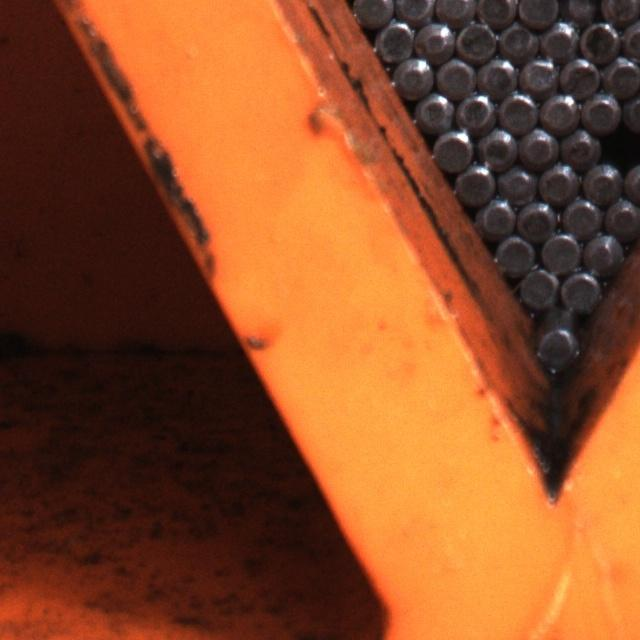tool: (532, 322, 579, 369), (514, 265, 556, 308), (453, 160, 495, 202), (560, 269, 602, 311), (455, 87, 496, 129), (538, 229, 580, 270), (493, 233, 535, 274), (581, 158, 622, 199), (580, 89, 621, 130), (516, 124, 557, 165), (496, 89, 537, 130), (537, 160, 579, 200), (515, 197, 557, 237), (560, 124, 600, 166), (538, 89, 578, 130), (517, 51, 557, 92), (435, 53, 475, 94), (561, 194, 602, 234), (474, 124, 515, 164), (431, 126, 471, 167), (582, 227, 623, 267), (414, 17, 454, 57), (456, 18, 496, 58), (498, 19, 538, 59), (474, 196, 514, 236), (475, 51, 515, 91), (372, 18, 412, 58), (559, 42, 599, 82), (393, 52, 432, 93), (602, 52, 640, 94), (413, 91, 452, 130), (497, 163, 536, 202), (537, 18, 576, 56), (583, 13, 621, 52), (603, 195, 640, 234), (476, 0, 517, 25), (517, 0, 558, 24), (352, 0, 393, 23), (560, 0, 599, 23), (600, 0, 640, 22), (435, 0, 475, 21), (396, 0, 436, 21), (620, 18, 640, 58), (621, 92, 640, 132), (623, 161, 640, 201)
